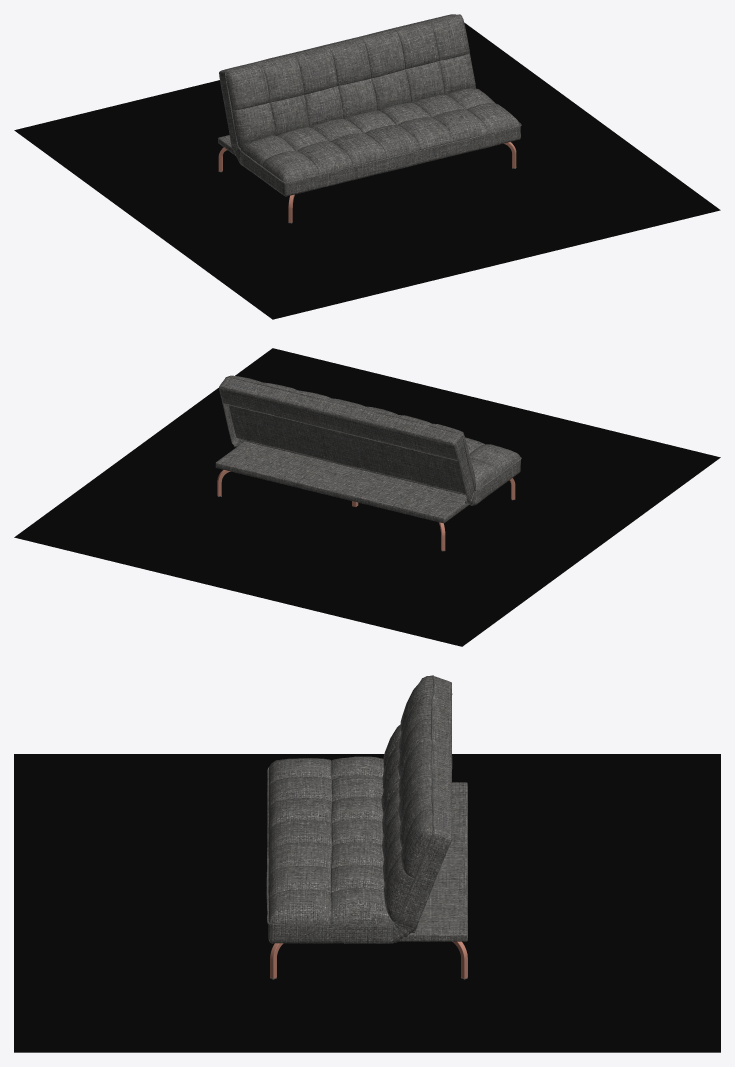
File: sofaBed.gltf
3 renders of one model, top to bottom at view 1: azimuth 30°, elevation 25°; view 2: azimuth 150°, elevation 25°; view 3: azimuth 270°, elevation 25°, orthographic. The views are drawn at different scales.
Parts seen in each view (by area): view 1: Plane001, FABRIC001; view 2: Plane001, FABRIC_BLACK001, FABRIC001; view 3: Plane001, FABRIC001, FABRIC_BLACK001.
Boxes of the visible parts, bbox=[...] form: Plane001: bbox=[14, 23, 720, 319]; FABRIC001: bbox=[219, 14, 521, 196]; Plane001: bbox=[14, 348, 720, 646]; FABRIC_BLACK001: bbox=[215, 388, 474, 523]; FABRIC001: bbox=[219, 375, 521, 504]; Plane001: bbox=[14, 754, 720, 1052]; FABRIC001: bbox=[266, 675, 452, 943]; FABRIC_BLACK001: bbox=[395, 782, 467, 942].
Size of the model in its own units: 334 by 79.05 by 334.
